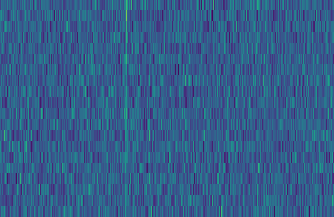signal: (119, 0, 128, 217)
